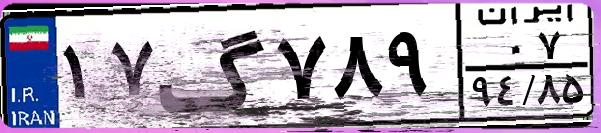0: (508, 27, 537, 80)
1: (57, 26, 110, 100)
4: (495, 70, 520, 125)
5: (560, 70, 590, 125)
7: (270, 28, 330, 110), (110, 28, 156, 98), (537, 27, 568, 80)
8: (330, 28, 385, 110), (535, 70, 560, 125)
9: (385, 28, 445, 110), (470, 70, 495, 125)
گ: (156, 12, 270, 120)
